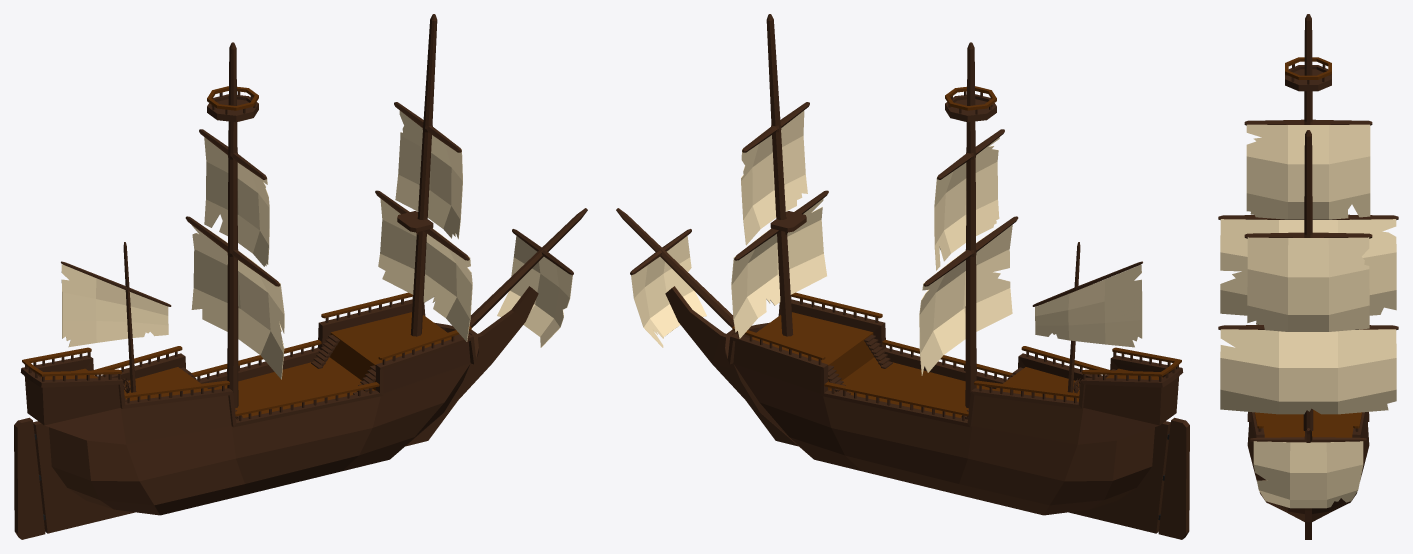
File: ship_dutch_2.fbx
3 renders of one model, left to right at view 1: azimuth 30°, elevation 25°; view 2: azimuth 150°, elevation 25°; view 3: azimuth 270°, elevation 25°, orthographic. The views are drawn at different scales.
Visible parts, largest first — view 1: Cube.006, Cube.004; view 2: Cube.006, Cube.004; view 3: Cube.006, Cube.004, Cube.001.
Boxes of the visible parts, <box> form: Cube.006: <box>14,14,587,539</box>; Cube.004: <box>207,91,258,122</box>; Cube.006: <box>616,14,1189,539</box>; Cube.004: <box>945,91,996,122</box>; Cube.006: <box>1218,14,1398,539</box>; Cube.004: <box>1285,64,1331,91</box>; Cube.001: <box>1285,57,1331,79</box>.
Bounding box in the file's own units: 2581 × 6842 × 9222.
